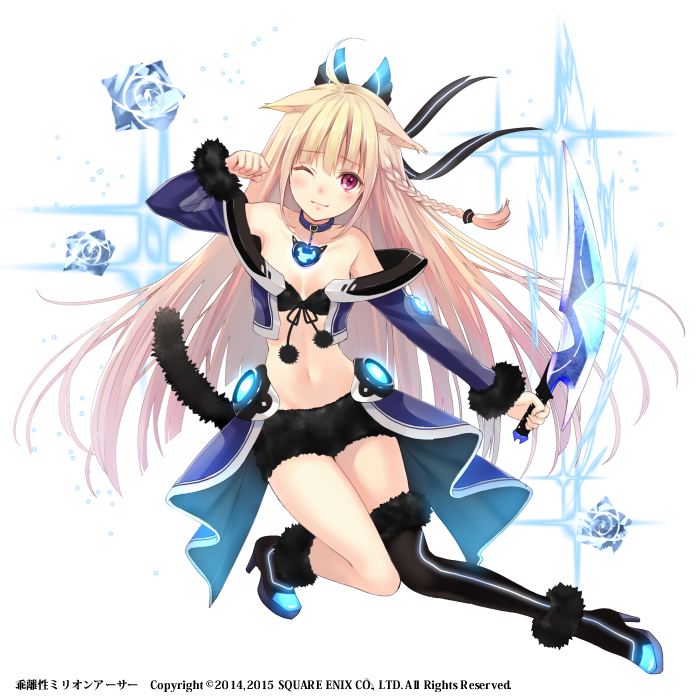纸片人正脸: (250, 74, 405, 233)
